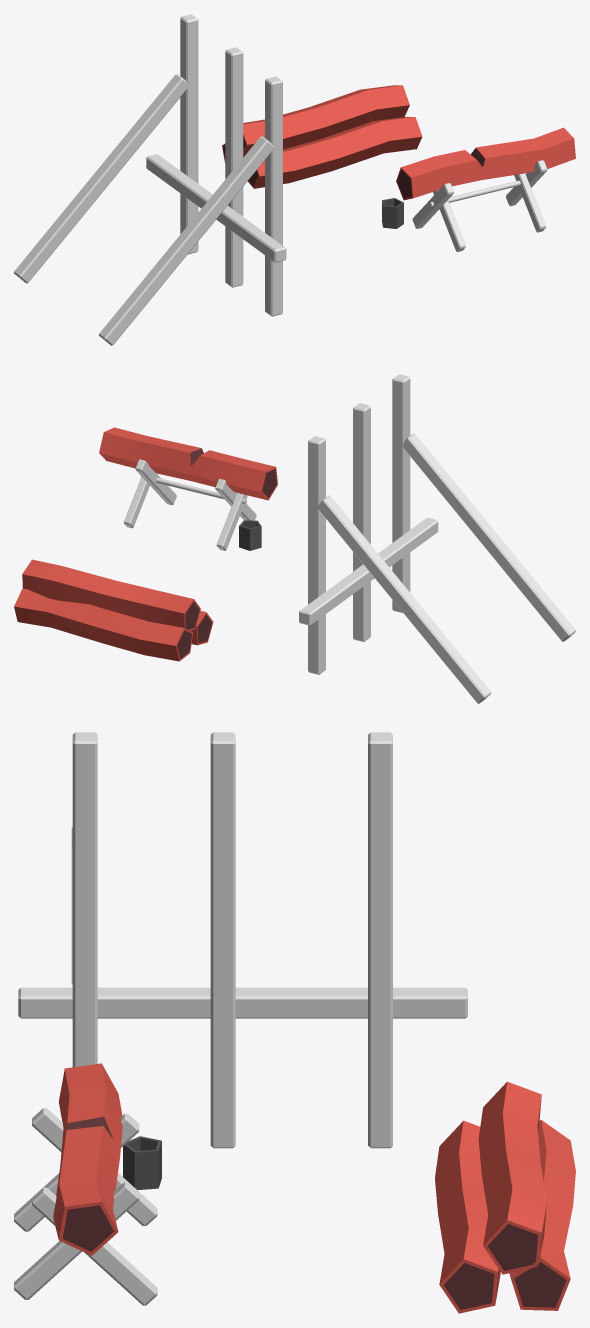
File: houseBuild.fbx
3 views of the same model, one above another, from view 1: azimuth 30°, elevation 25°; view 2: azimuth 150°, elevation 25°; view 3: azimuth 270°, elevation 25° (orthographic). The views are drawn at different scales.
Parts seen in each view (by area): view 1: Cylinder.004, Cylinder.001, Cylinder.003, Cube.008, Cube.009, Cube.004, Cube.005, Cube.006, Cube.007, Cube, Cube.003, Cylinder.005 (+3 smaller); view 2: Cylinder.004, Cylinder.002, Cylinder.003, Cube.008, Cube.009, Cube.006, Cube.004, Cube.005, Cube.007, Cube, Cube.003, Cylinder.005 (+4 smaller); view 3: Cube.007, Cube.005, Cylinder.004, Cylinder.003, Cube.006, Cube.004, Cylinder.001, Cylinder.002, Cube.003, Cube.002, Cylinder.005, Cube (+1 smaller).
Part boxes in pixels (x1,y1,x2,y2): Cylinder.004: (396, 127, 575, 200); Cylinder.001: (243, 117, 422, 188); Cylinder.003: (243, 85, 409, 156); Cube.008: (14, 74, 189, 283); Cube.009: (99, 136, 274, 345); Cube.004: (265, 76, 282, 316); Cube.005: (225, 47, 243, 287); Cube.006: (180, 14, 198, 254); Cube.007: (146, 154, 286, 262); Cube: (412, 183, 453, 228); Cube.003: (514, 173, 545, 232); Cylinder.005: (382, 198, 403, 228); Cylinder.004: (99, 427, 277, 500); Cylinder.002: (14, 588, 192, 661); Cylinder.003: (22, 559, 200, 632); Cube.008: (318, 495, 491, 703); Cube.009: (403, 433, 575, 641); Cube.006: (308, 436, 325, 674); Cube.004: (392, 374, 410, 612); Cube.005: (353, 403, 370, 641); Cube.007: (299, 517, 438, 625); Cube: (216, 493, 247, 550); Cube.003: (135, 459, 176, 505); Cylinder.005: (239, 520, 261, 550); Cube.007: (18, 987, 467, 1018); Cube.005: (210, 732, 235, 1148); Cylinder.004: (53, 1063, 122, 1255); Cylinder.003: (478, 1081, 546, 1274); Cube.006: (368, 732, 392, 1148); Cube.004: (72, 732, 97, 1067); Cylinder.001: (435, 1120, 500, 1313); Cylinder.002: (509, 1120, 575, 1310); Cube.003: (14, 1182, 139, 1299); Cube.002: (32, 1187, 157, 1305); Cylinder.005: (123, 1136, 161, 1190); Cube: (32, 1108, 157, 1225).
Bounding box in the file's own units: 760 × 364 × 455.
